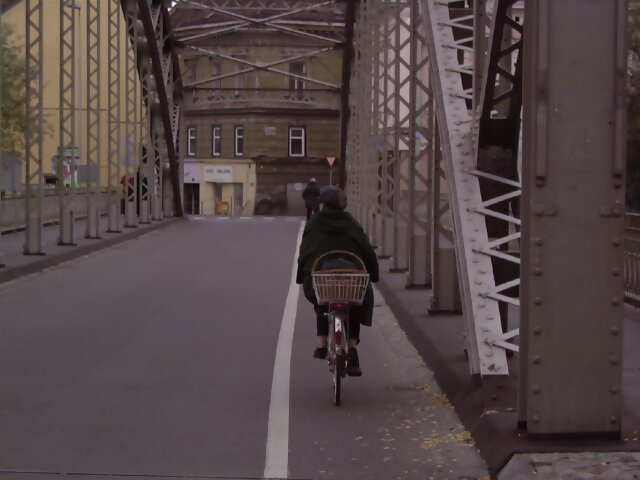person: (299, 179, 380, 378)
